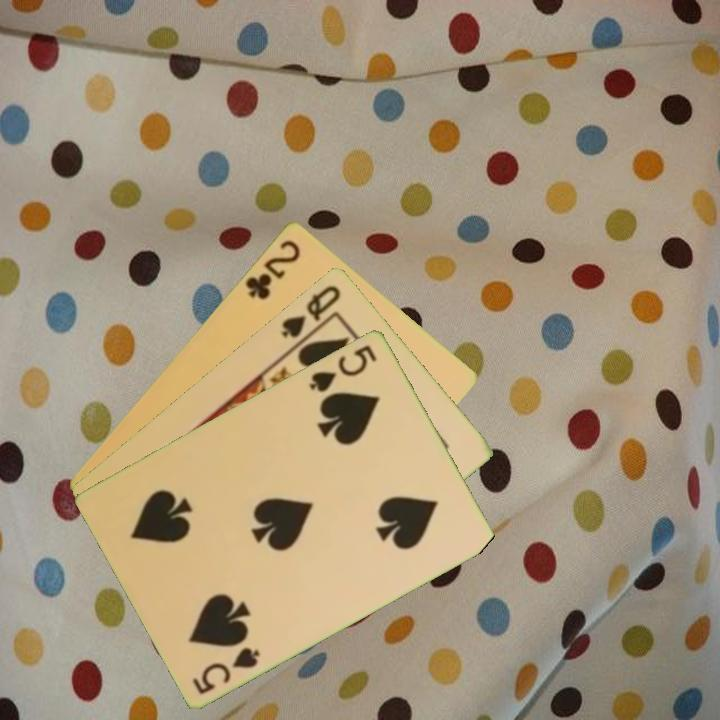2c: (241, 235, 303, 303)
5s: (305, 340, 380, 395), (189, 642, 264, 697)
Qs: (277, 281, 344, 340)
